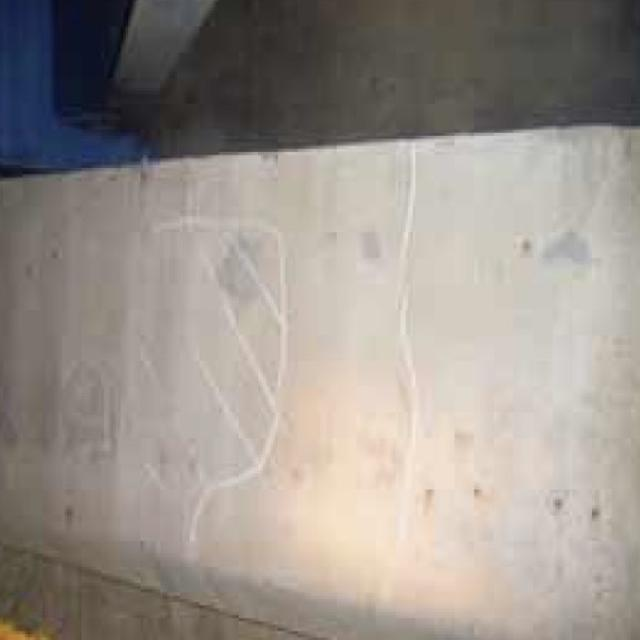crack: (383, 144, 446, 573)
